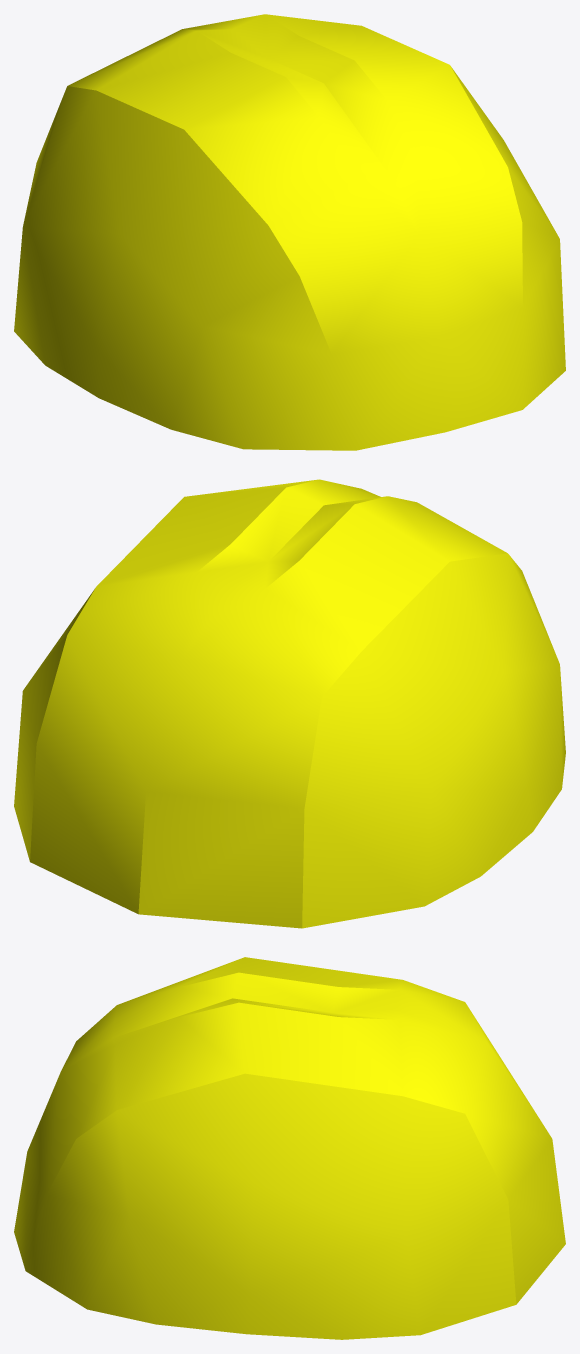
File: hair_marlowe.glb
The picture shows the model from 3 angles, top to bottom: view 1: azimuth 30°, elevation 25°; view 2: azimuth 150°, elevation 25°; view 3: azimuth 270°, elevation 25°; orthographic projection. The views are drawn at different scales.
Parts seen in each view (by area): view 1: hair_marlowe; view 2: hair_marlowe; view 3: hair_marlowe.
Part boxes in pixels (left/top/right/bottom): hair_marlowe: left=14, top=14, right=565, bottom=450; hair_marlowe: left=14, top=479, right=565, bottom=928; hair_marlowe: left=14, top=957, right=565, bottom=1339.
Size of the model in its own units: 0.5181 by 0.3257 by 0.6326.
Materials: 1 (1 with a texture image).
